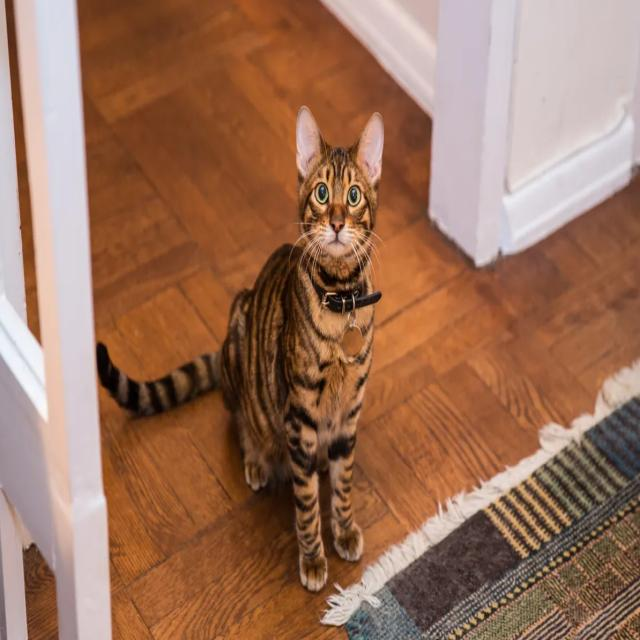Toyger: (93, 102, 390, 597)
